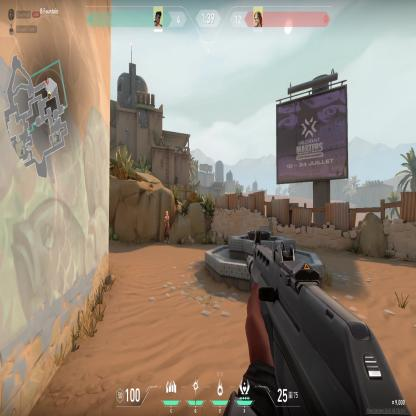enemy: (163, 209, 170, 244)
